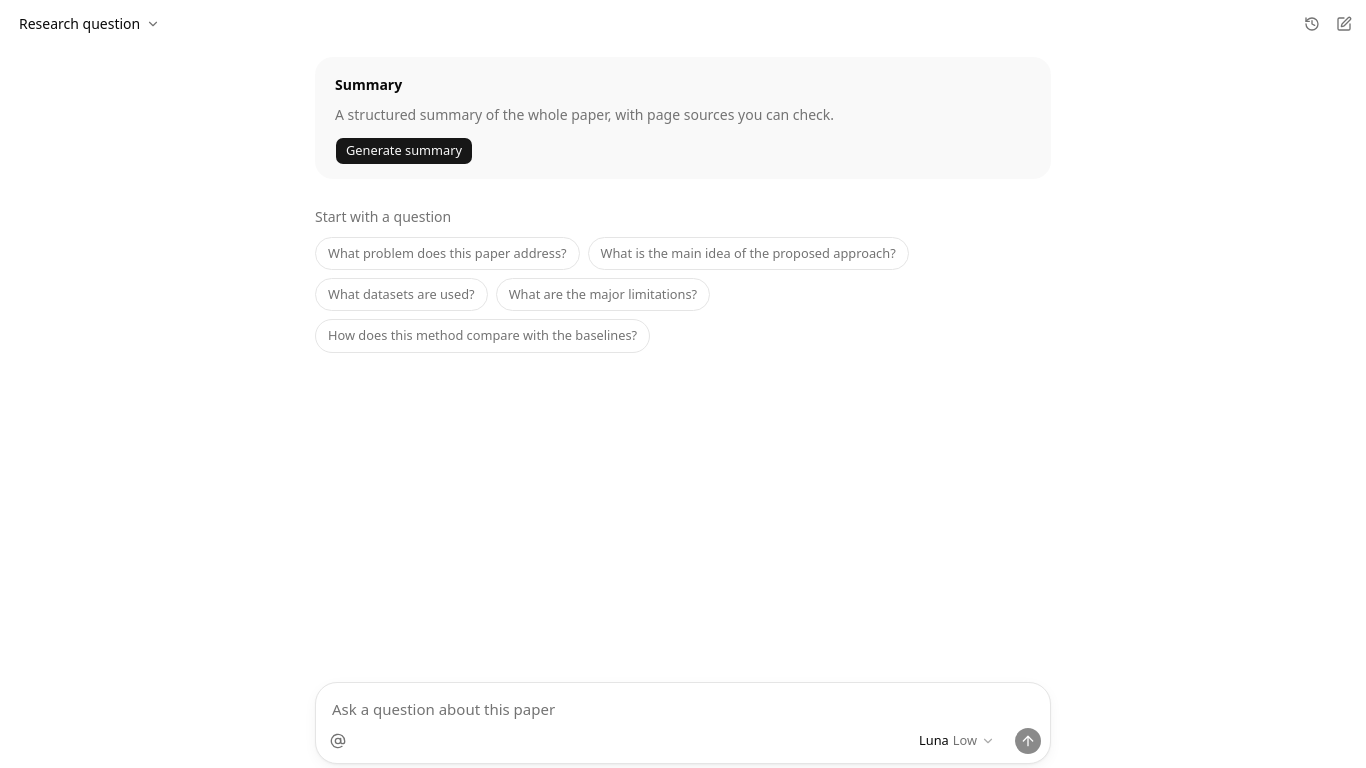
Test: Given a question that mentions a paper outside the chat, When its answer cites that paper, Then the answer is accepted
This screenshot has width=1366, height=768.
Type "What does @" into the field named "Question about this paper" at (683, 705), box [316,683,1050,727]
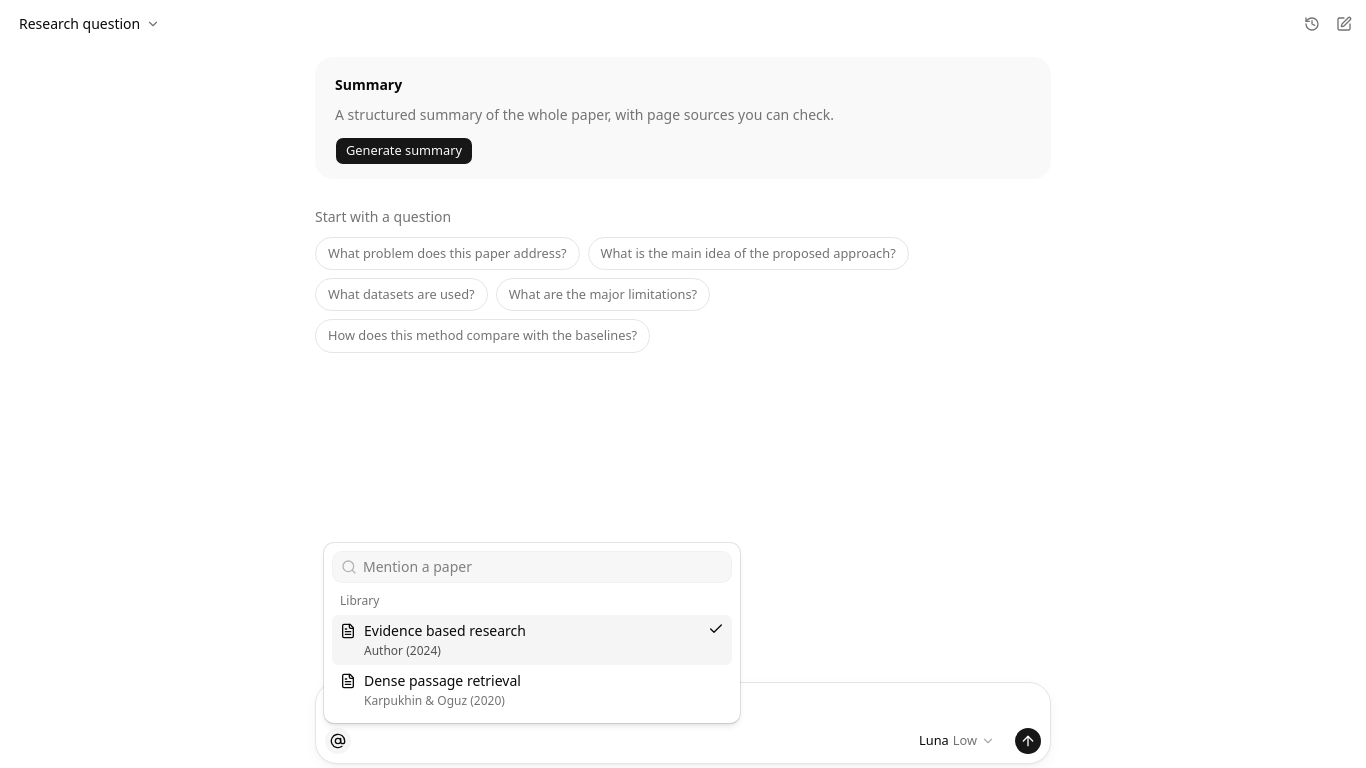
Click the option "Dense passage retrieval Karpukhin & Oguz (2020)" at (430, 690), box [340,671,521,709]
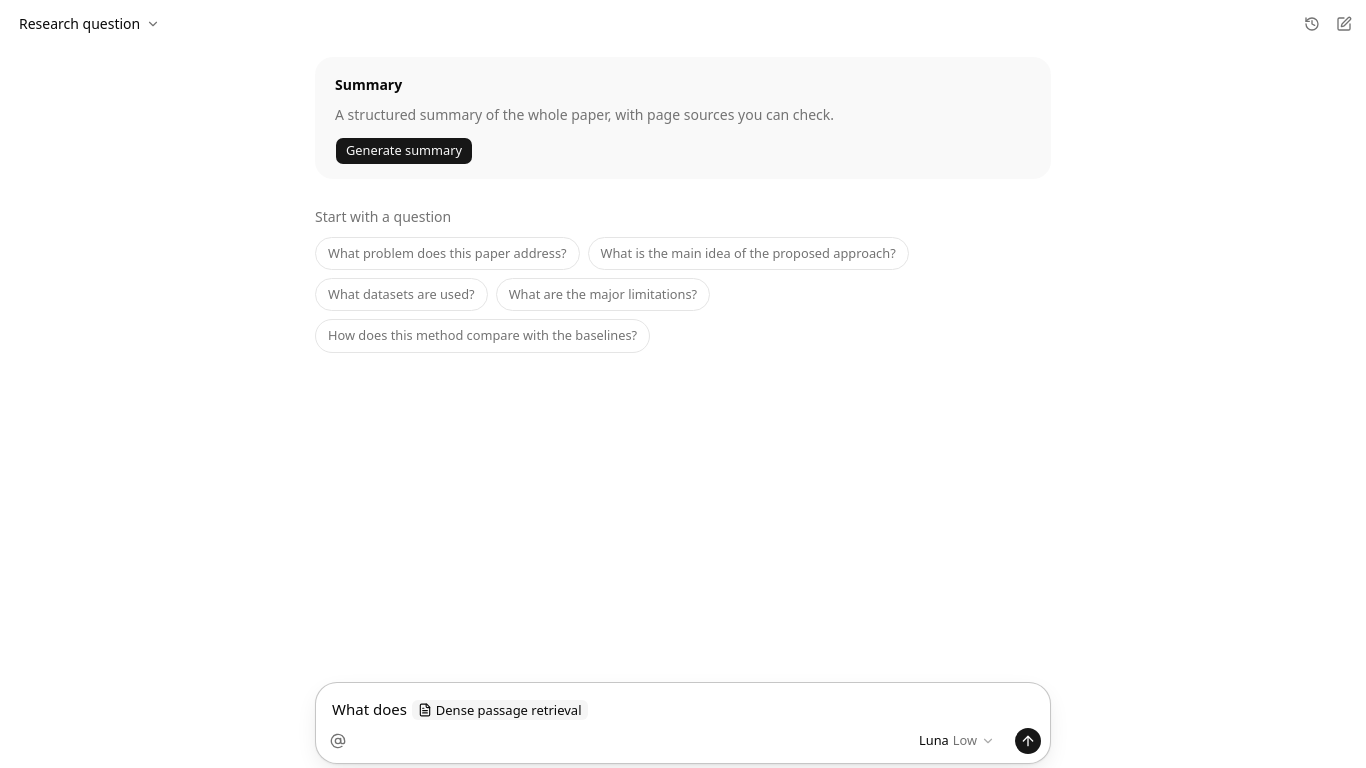
Check: the element "Dense passage retrieval" is shown, box [412,700,588,720]
Type "report?" into the field named "Question about this paper" at (460, 710), box [332,699,588,720]
Then press Enter
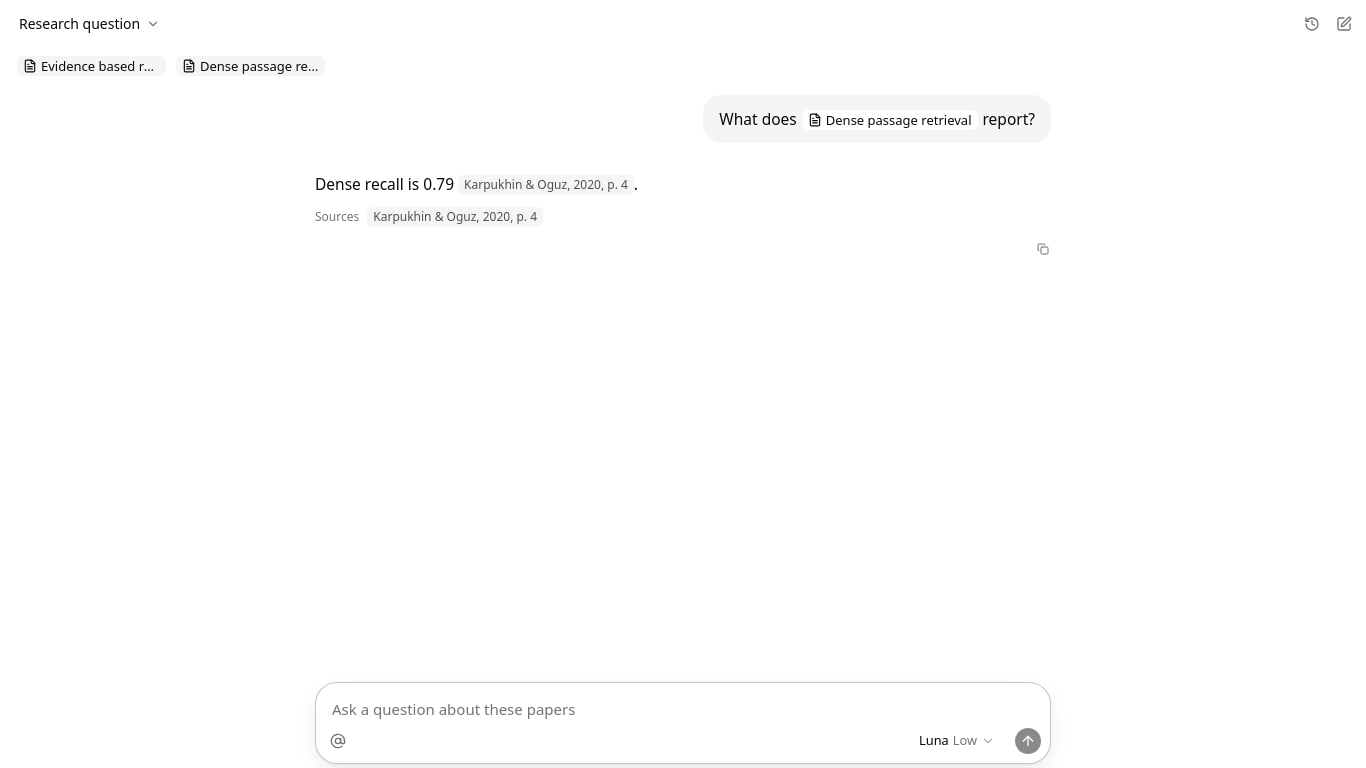
Check: the element named "Assistant message" shows "Dense recall is 0.79", box [315,171,1051,261]
